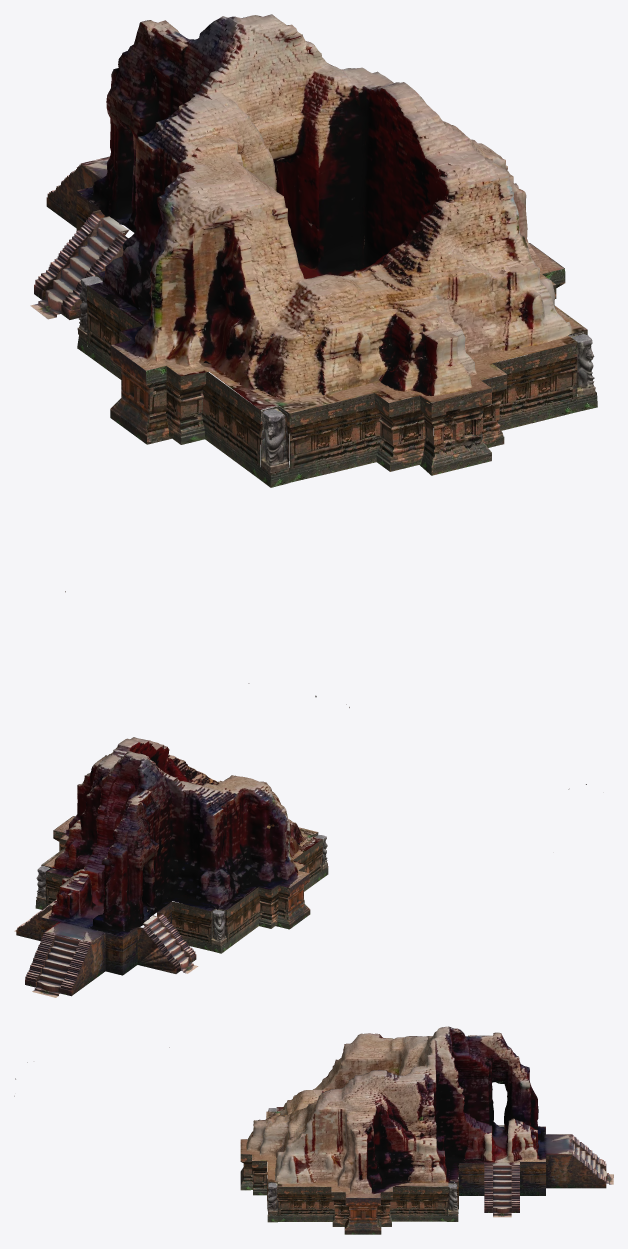
File: thapG1_final.glb
The picture shows the model from 3 angles, top to bottom: view 1: azimuth 30°, elevation 25°; view 2: azimuth 150°, elevation 25°; view 3: azimuth 270°, elevation 25°; orthographic projection. The views are drawn at different scales.
Size of the model in its own units: 17.44 by 7.52 by 26.8.
Materials: 3 (3 with a texture image).
